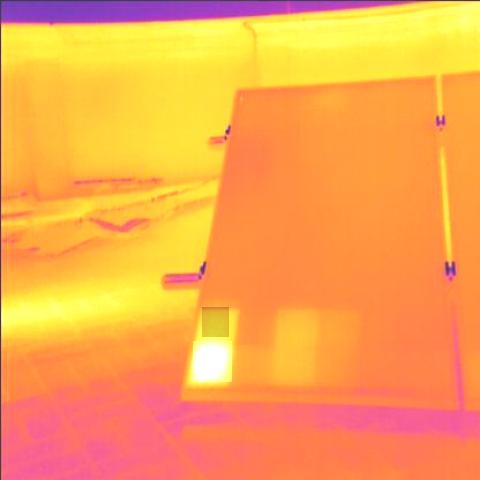fault: (193, 341, 232, 382), (202, 307, 229, 337)
